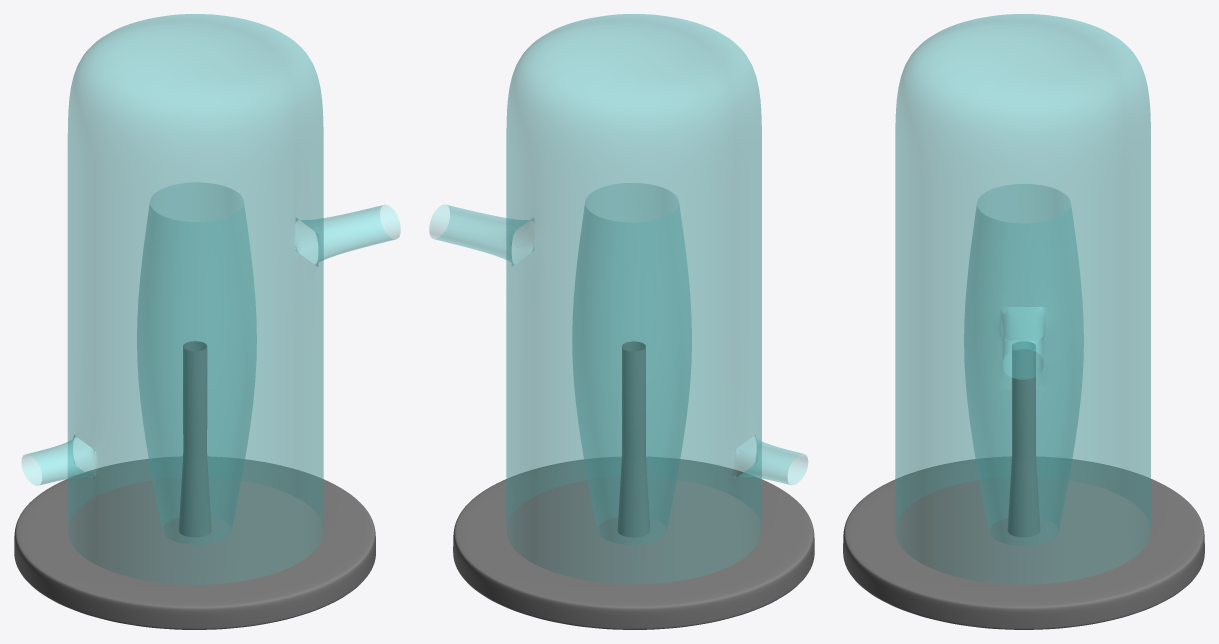
Rendered from Spray Chamber 2.fbx.
3 views of the same model, side by side, from view 1: azimuth 30°, elevation 25°; view 2: azimuth 150°, elevation 25°; view 3: azimuth 270°, elevation 25° (orthographic).
Parts seen in each view (by area): view 1: Spray Chamber.001, Spray Chamber, Spray Chamber.002; view 2: Spray Chamber.001, Spray Chamber, Spray Chamber.002; view 3: Spray Chamber.001, Spray Chamber, Spray Chamber.002.
Boxes of the visible parts, x1,y1,x2,y2 form: Spray Chamber.001: [21, 14, 400, 584]; Spray Chamber: [14, 341, 375, 629]; Spray Chamber.002: [137, 183, 256, 543]; Spray Chamber.001: [429, 14, 807, 583]; Spray Chamber: [453, 341, 814, 629]; Spray Chamber.002: [572, 183, 691, 544]; Spray Chamber.001: [895, 14, 1150, 584]; Spray Chamber: [843, 342, 1204, 629]; Spray Chamber.002: [964, 184, 1083, 545].
Size of the model in its own units: 124 by 167 by 108.
